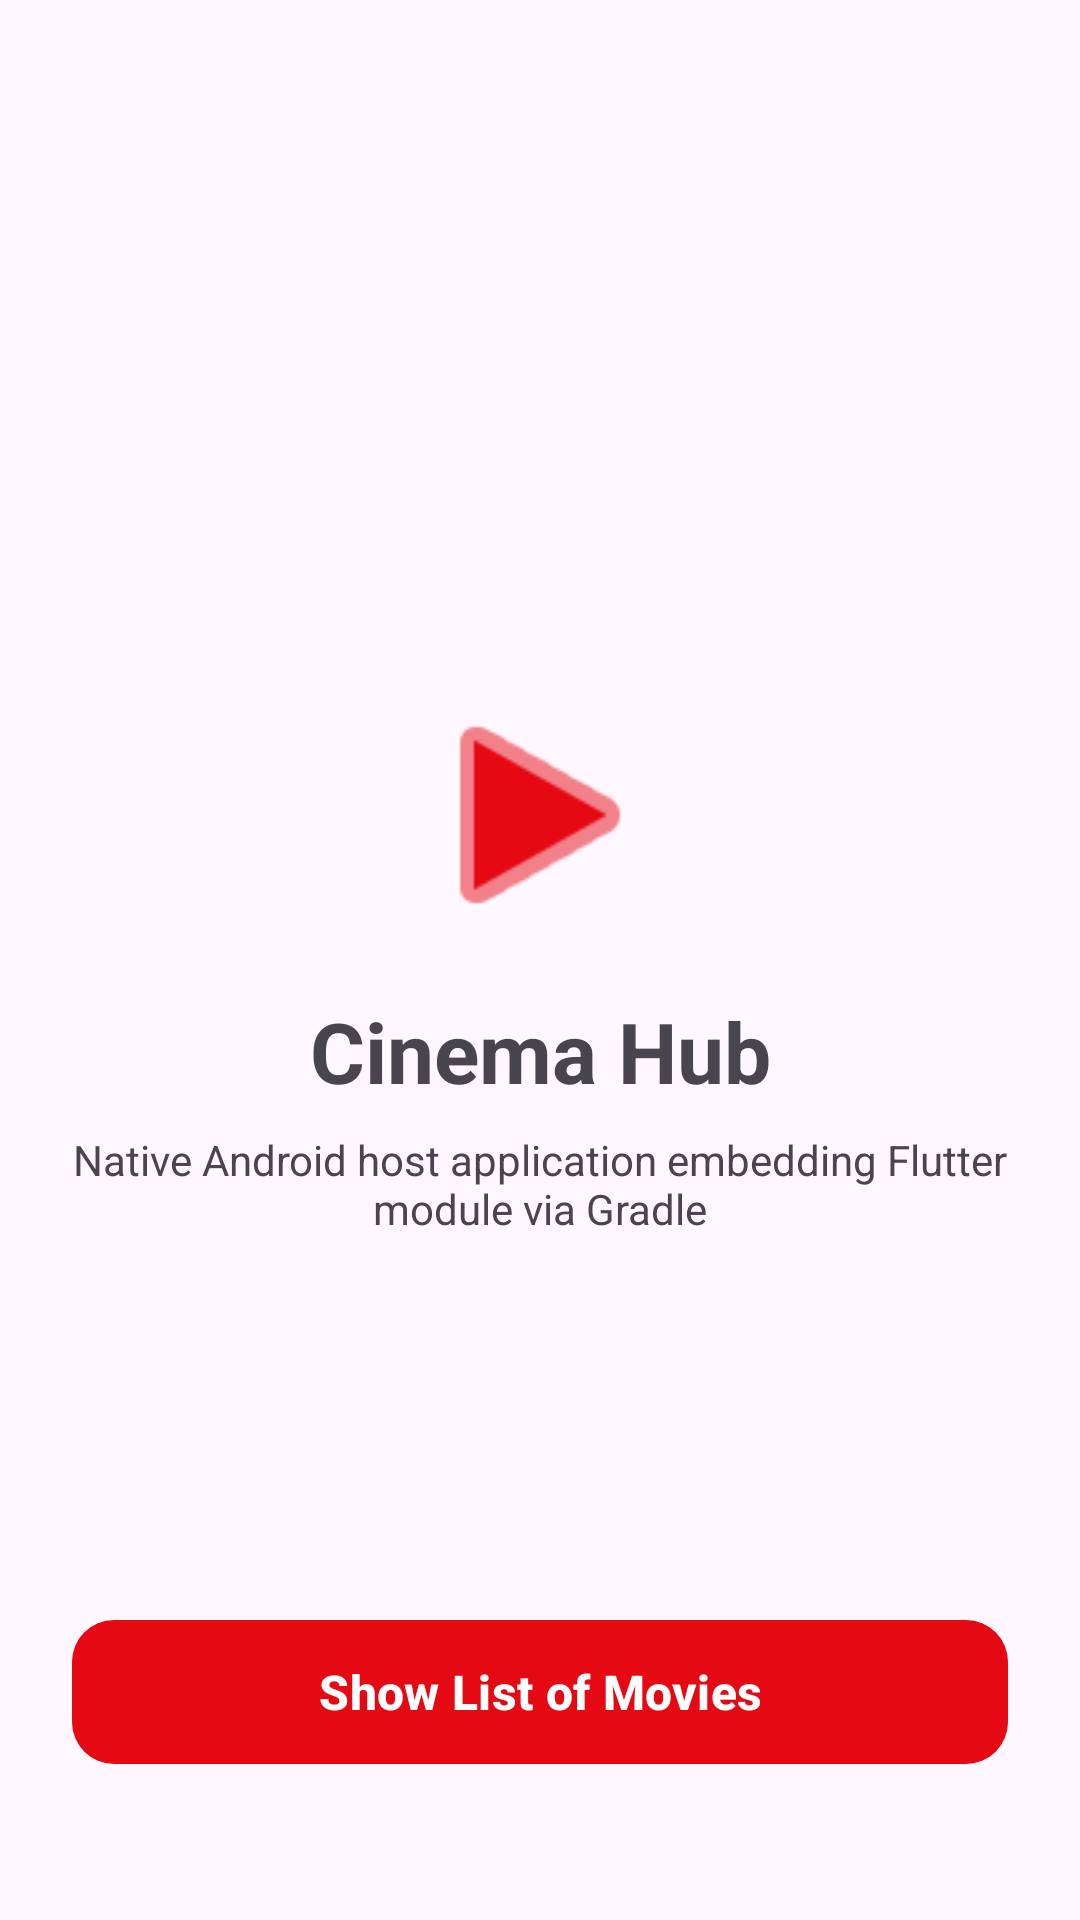

Icon bounding boxes for this 1080w x 1920h phone screenshot, format (x1, y1, x2, y2):
play: (459, 726, 621, 904)
